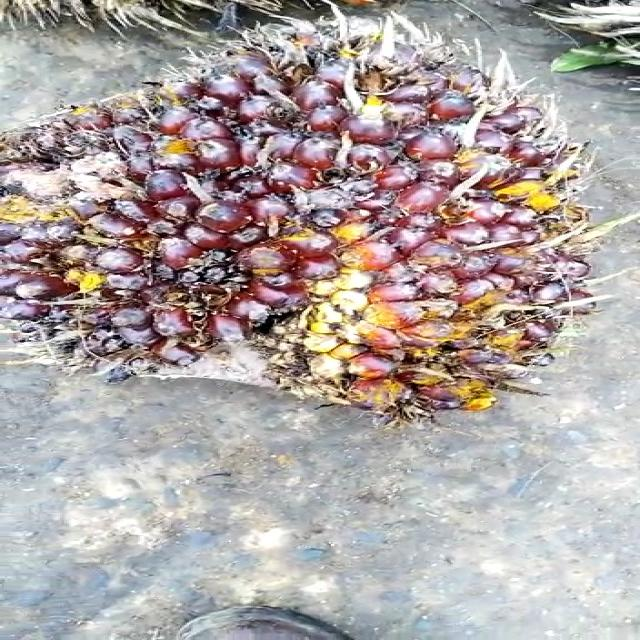palm oil: (0, 13, 611, 418)
